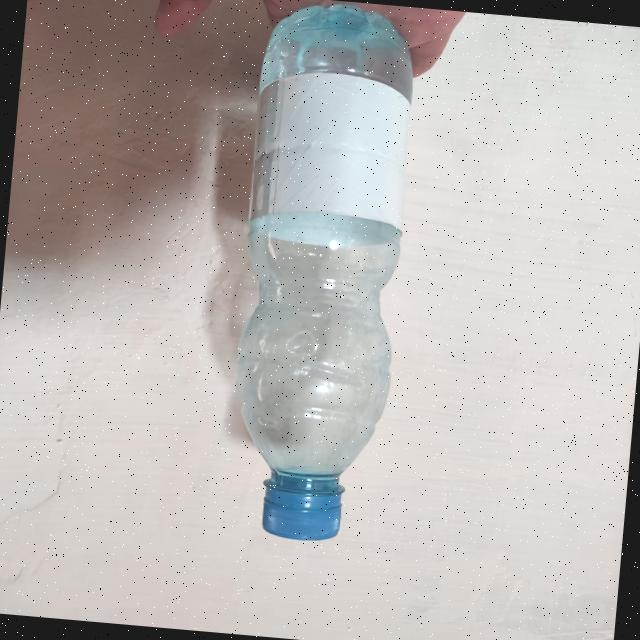bottle: (215, 0, 419, 555)
cap: (254, 478, 349, 548)
label: (246, 70, 412, 228)
